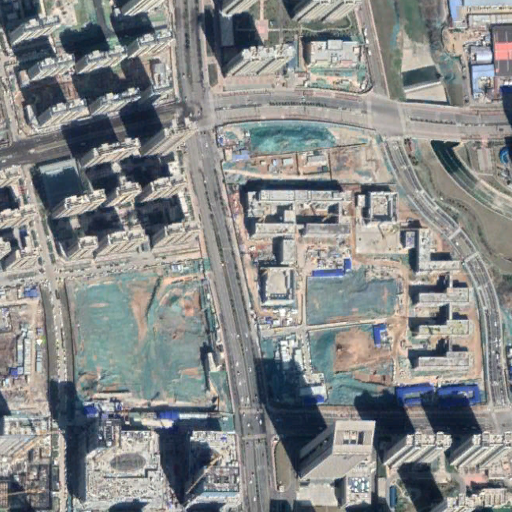cw: (67, 261, 221, 410), (257, 272, 403, 404), (247, 121, 335, 156)
